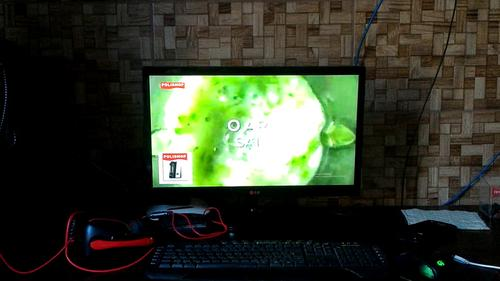Polishop #1: (157, 150, 193, 183)
